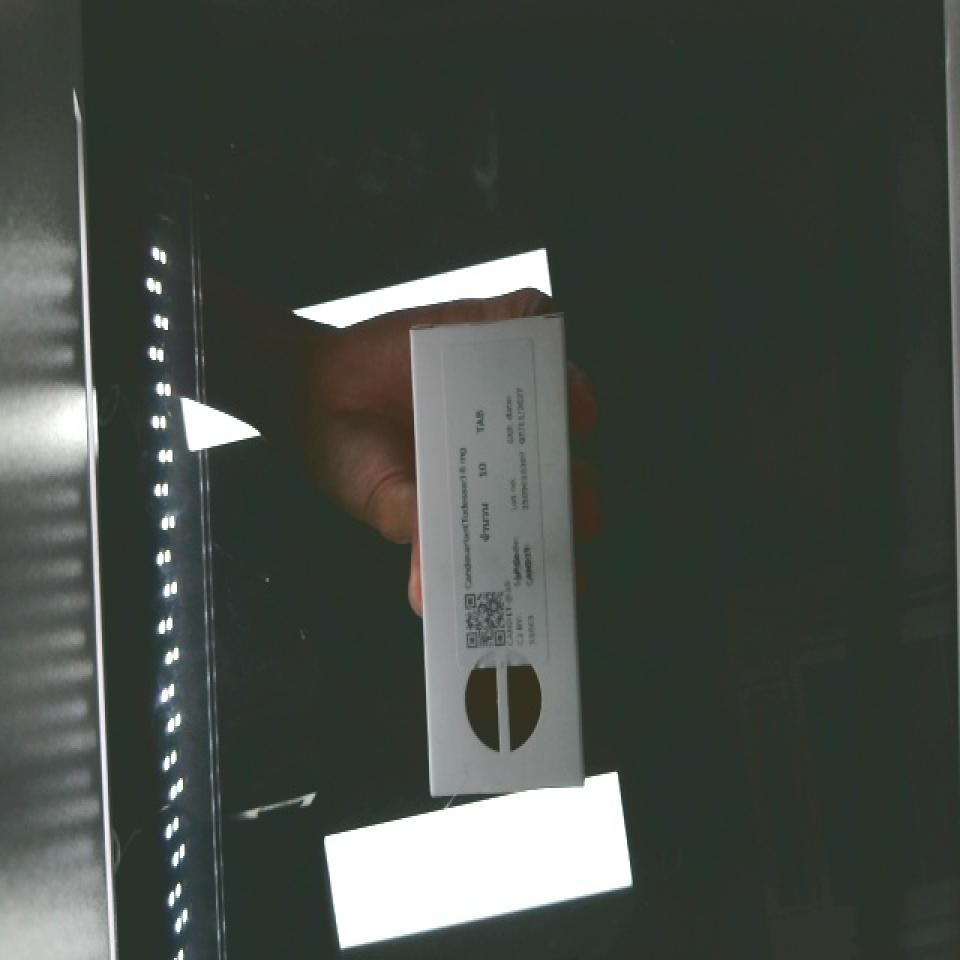medicine_box: (409, 318, 584, 798)
qr_code: (450, 577, 520, 665)
